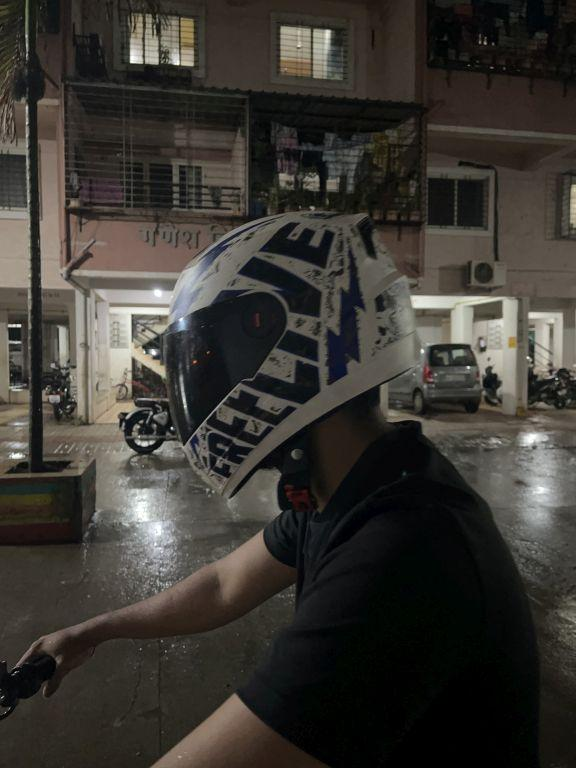helmet: (152, 202, 425, 514)
